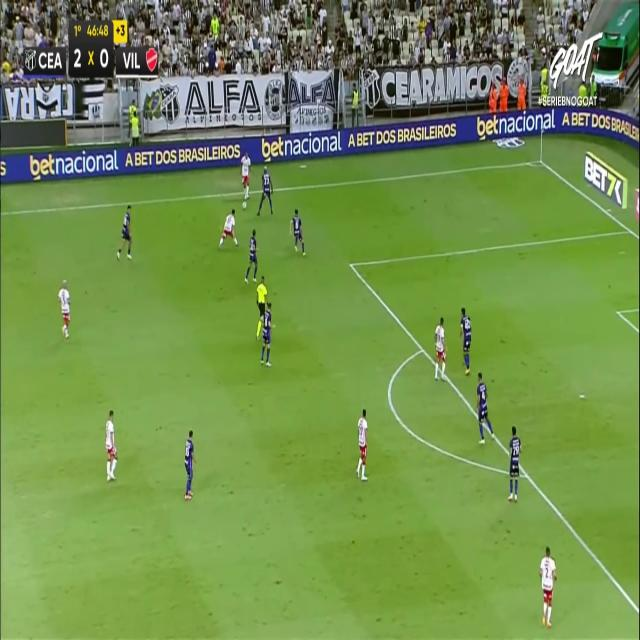ball: (241, 198, 248, 217)
player: (475, 371, 495, 444), (539, 546, 557, 627), (507, 425, 521, 501), (258, 301, 274, 367), (116, 204, 132, 261), (356, 408, 368, 480), (105, 409, 117, 480), (256, 165, 273, 215), (434, 316, 447, 381), (57, 278, 71, 338), (459, 306, 471, 374), (218, 208, 238, 248), (244, 228, 258, 284), (184, 430, 195, 500), (289, 208, 305, 255), (240, 151, 250, 205)
referee: (256, 275, 268, 340)
